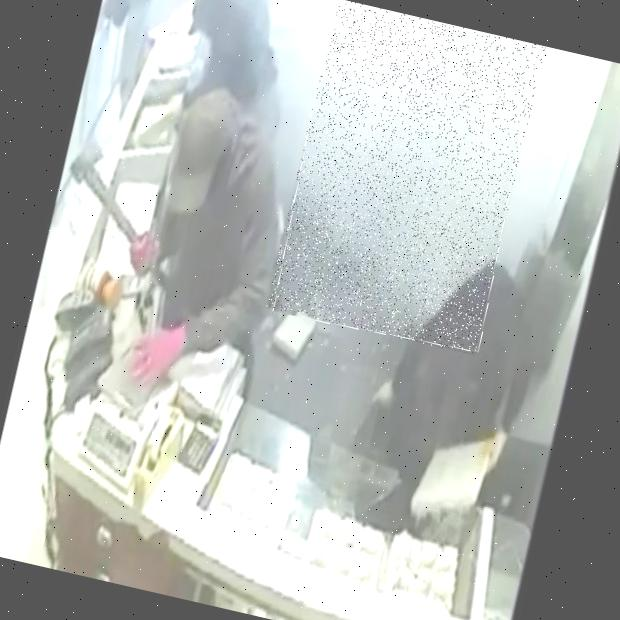smoke: (265, 0, 545, 355)
